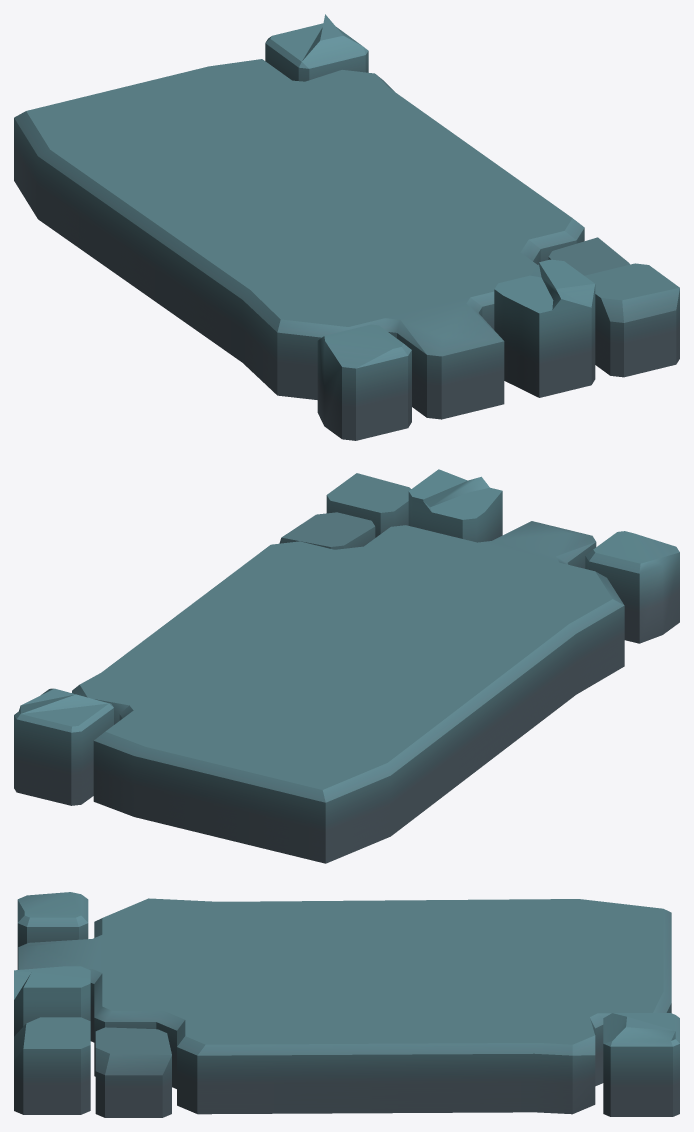
Rendered from Tomb Base 01.fbx.
The picture shows the model from 3 angles, top to bottom: view 1: azimuth 30°, elevation 25°; view 2: azimuth 150°, elevation 25°; view 3: azimuth 270°, elevation 25°; orthographic projection. The views are drawn at different scales.
Visible parts, largest first — view 1: Tomb Base 01.002; view 2: Tomb Base 01.002; view 3: Tomb Base 01.002.
Part boxes in pixels (<box>): Tomb Base 01.002: <box>14,14,679,440</box>; Tomb Base 01.002: <box>14,469,679,863</box>; Tomb Base 01.002: <box>14,892,679,1117</box>.
Bounding box in the file's own units: 218 × 57.41 × 390.
